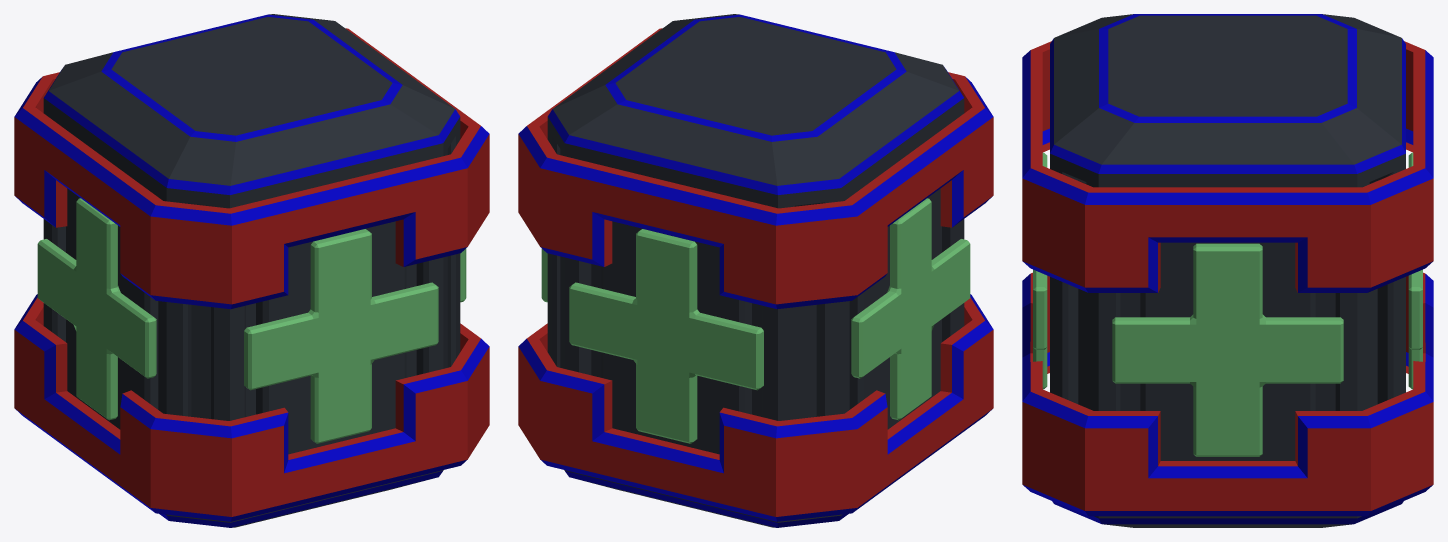
The model's file is AirDrop_Health.fbx.
The picture shows the model from 3 angles, left to right: view 1: azimuth 30°, elevation 25°; view 2: azimuth 150°, elevation 25°; view 3: azimuth 270°, elevation 25°; orthographic projection. The views are drawn at different scales.
Parts seen in each view (by area): view 1: Cube; view 2: Cube; view 3: Cube.
Boxes of the visible parts, x1=… form: Cube: x1=14, y1=14, x2=489, y2=527; Cube: x1=518, y1=14, x2=993, y2=527; Cube: x1=1022, y1=14, x2=1433, y2=527.
Bounding box in the file's own units: 859 × 943 × 859.
